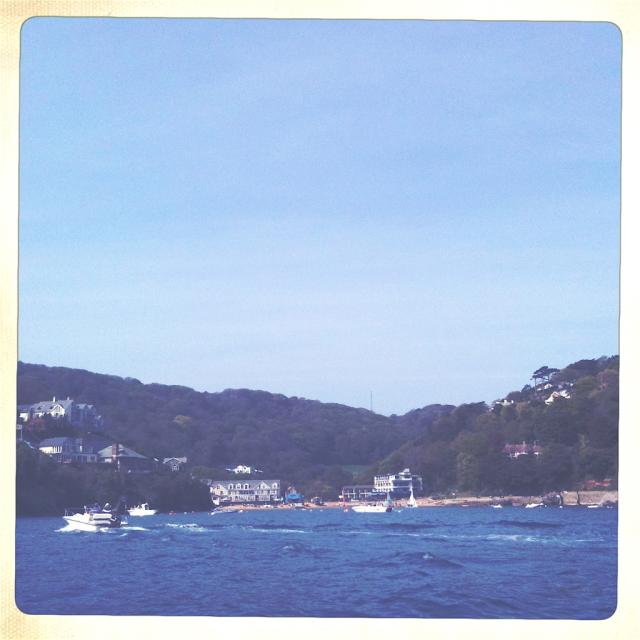Boat: (63, 502, 129, 528)
